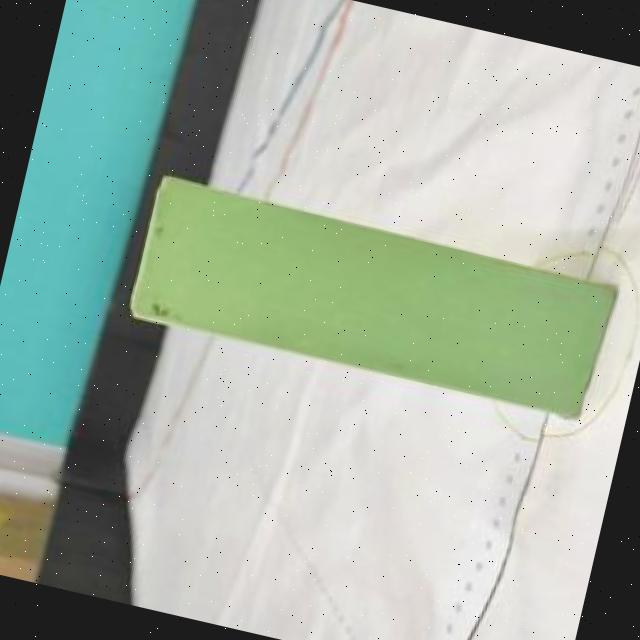greenbox: (128, 174, 618, 420)
